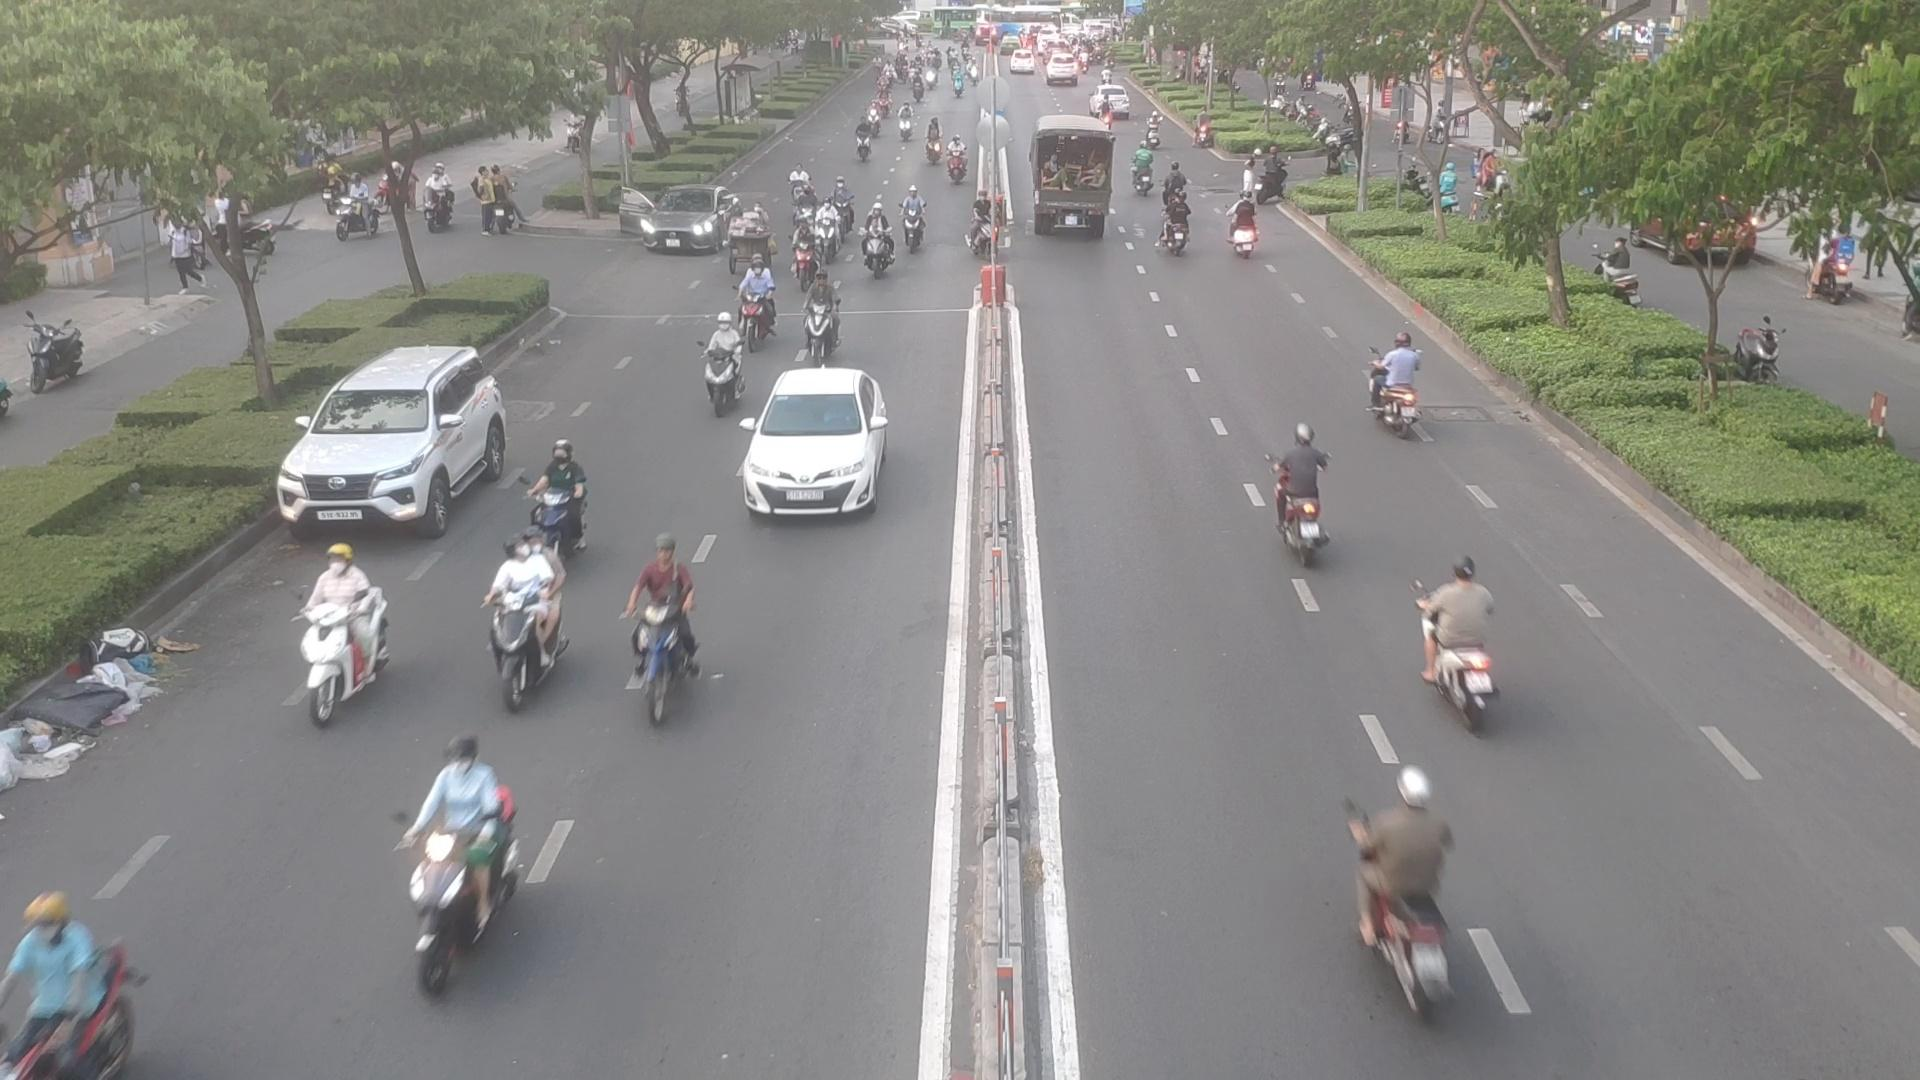car: (284, 343, 521, 531), (738, 365, 898, 512), (615, 191, 742, 258)
motorbike: (392, 746, 526, 980), (0, 891, 135, 1080), (1358, 853, 1473, 1015), (287, 560, 402, 720), (622, 550, 708, 731), (1415, 567, 1515, 721), (484, 545, 571, 702), (1258, 430, 1335, 560), (513, 443, 597, 554), (1362, 334, 1433, 425), (695, 324, 750, 409), (800, 277, 849, 357), (735, 265, 781, 340), (858, 208, 898, 276), (803, 204, 844, 258), (1230, 200, 1265, 258), (1156, 203, 1193, 256), (902, 193, 934, 253), (1131, 149, 1162, 196), (918, 129, 945, 162)
